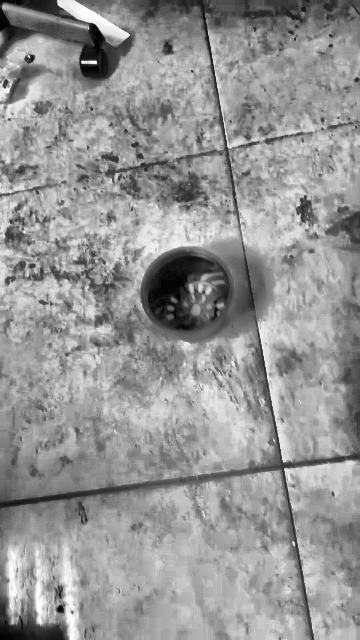pot: (140, 247, 234, 342)
